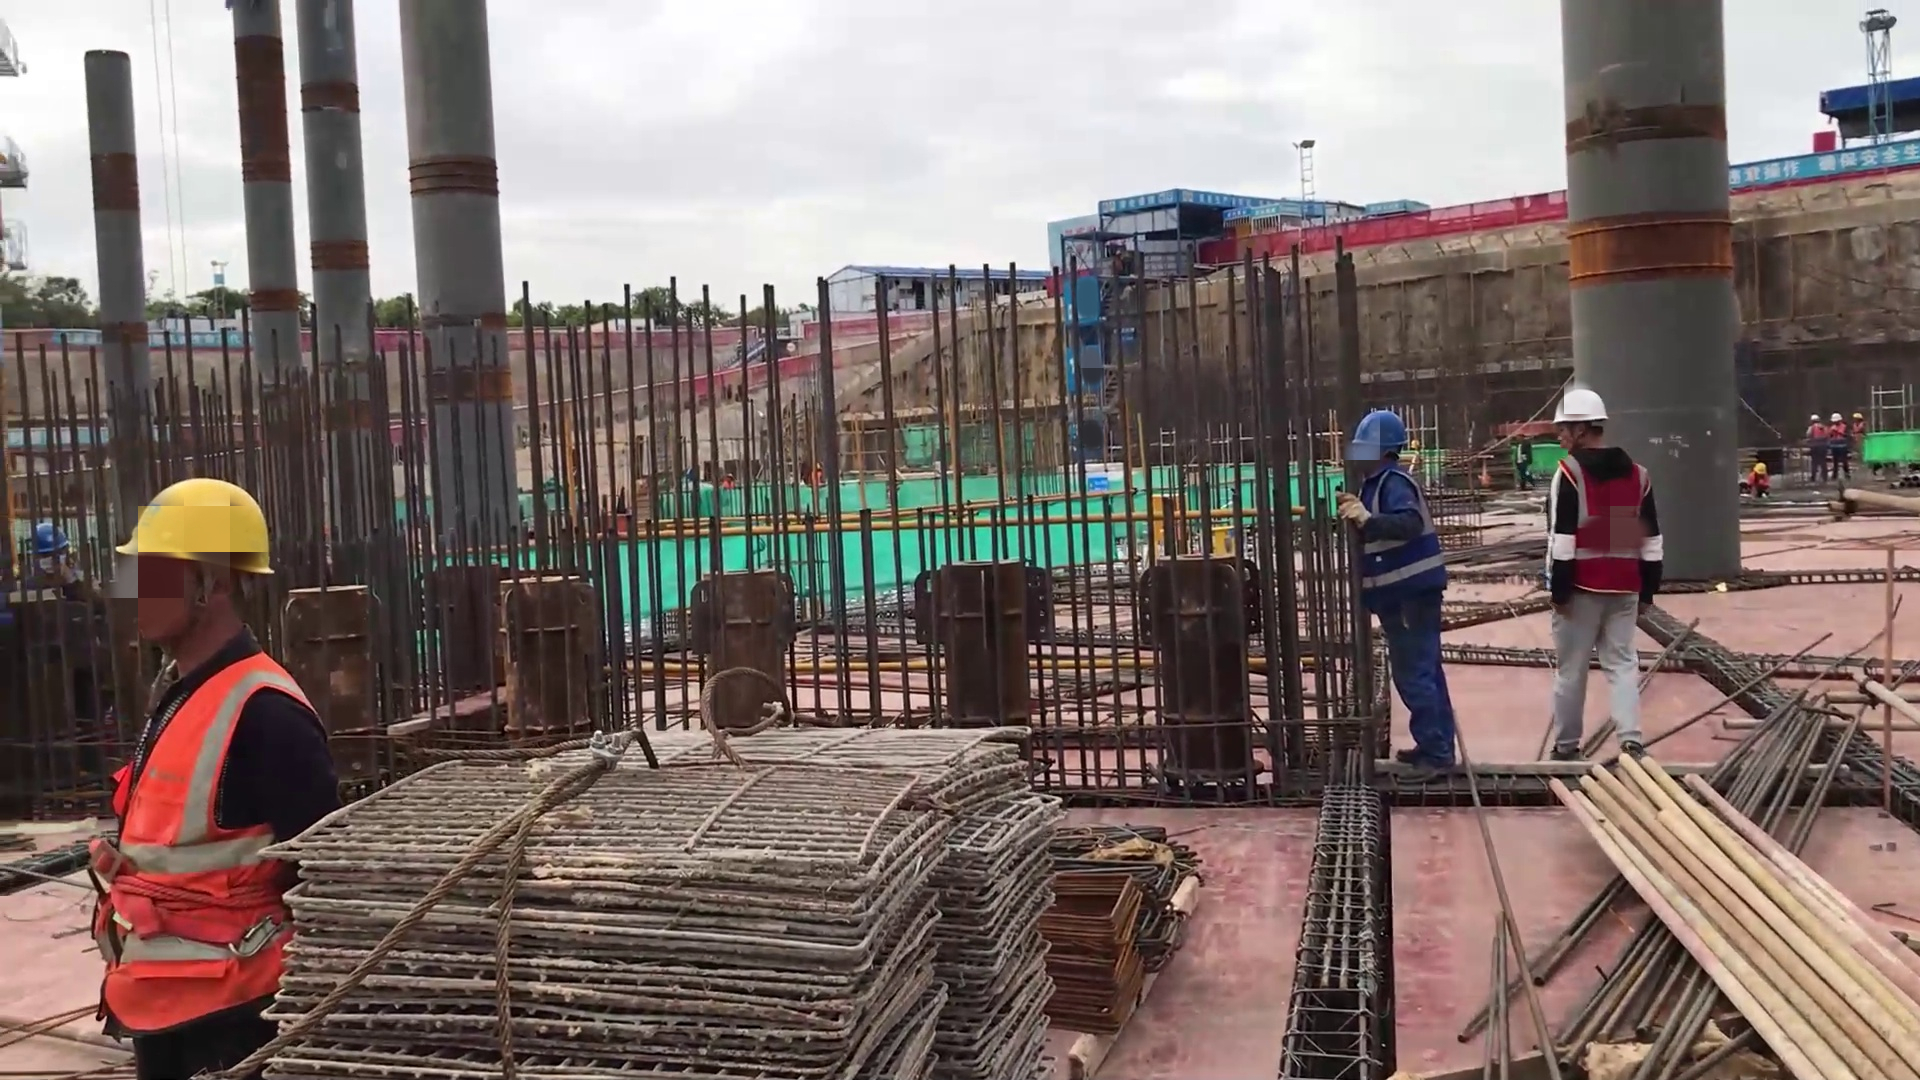helmet: (115, 480, 277, 575), (1552, 390, 1612, 426), (1351, 411, 1408, 449), (1753, 463, 1767, 475), (1831, 413, 1843, 422), (1853, 413, 1865, 419), (1812, 415, 1820, 421)
person: (75, 475, 336, 1080), (1335, 408, 1462, 775), (1545, 387, 1667, 763), (1805, 412, 1828, 481), (1828, 413, 1852, 479), (1748, 461, 1770, 498), (1850, 413, 1865, 438)
vest: (84, 657, 322, 1033), (1355, 472, 1447, 607), (1564, 451, 1649, 588), (1828, 423, 1849, 450), (1811, 423, 1828, 448), (1748, 473, 1770, 489)
